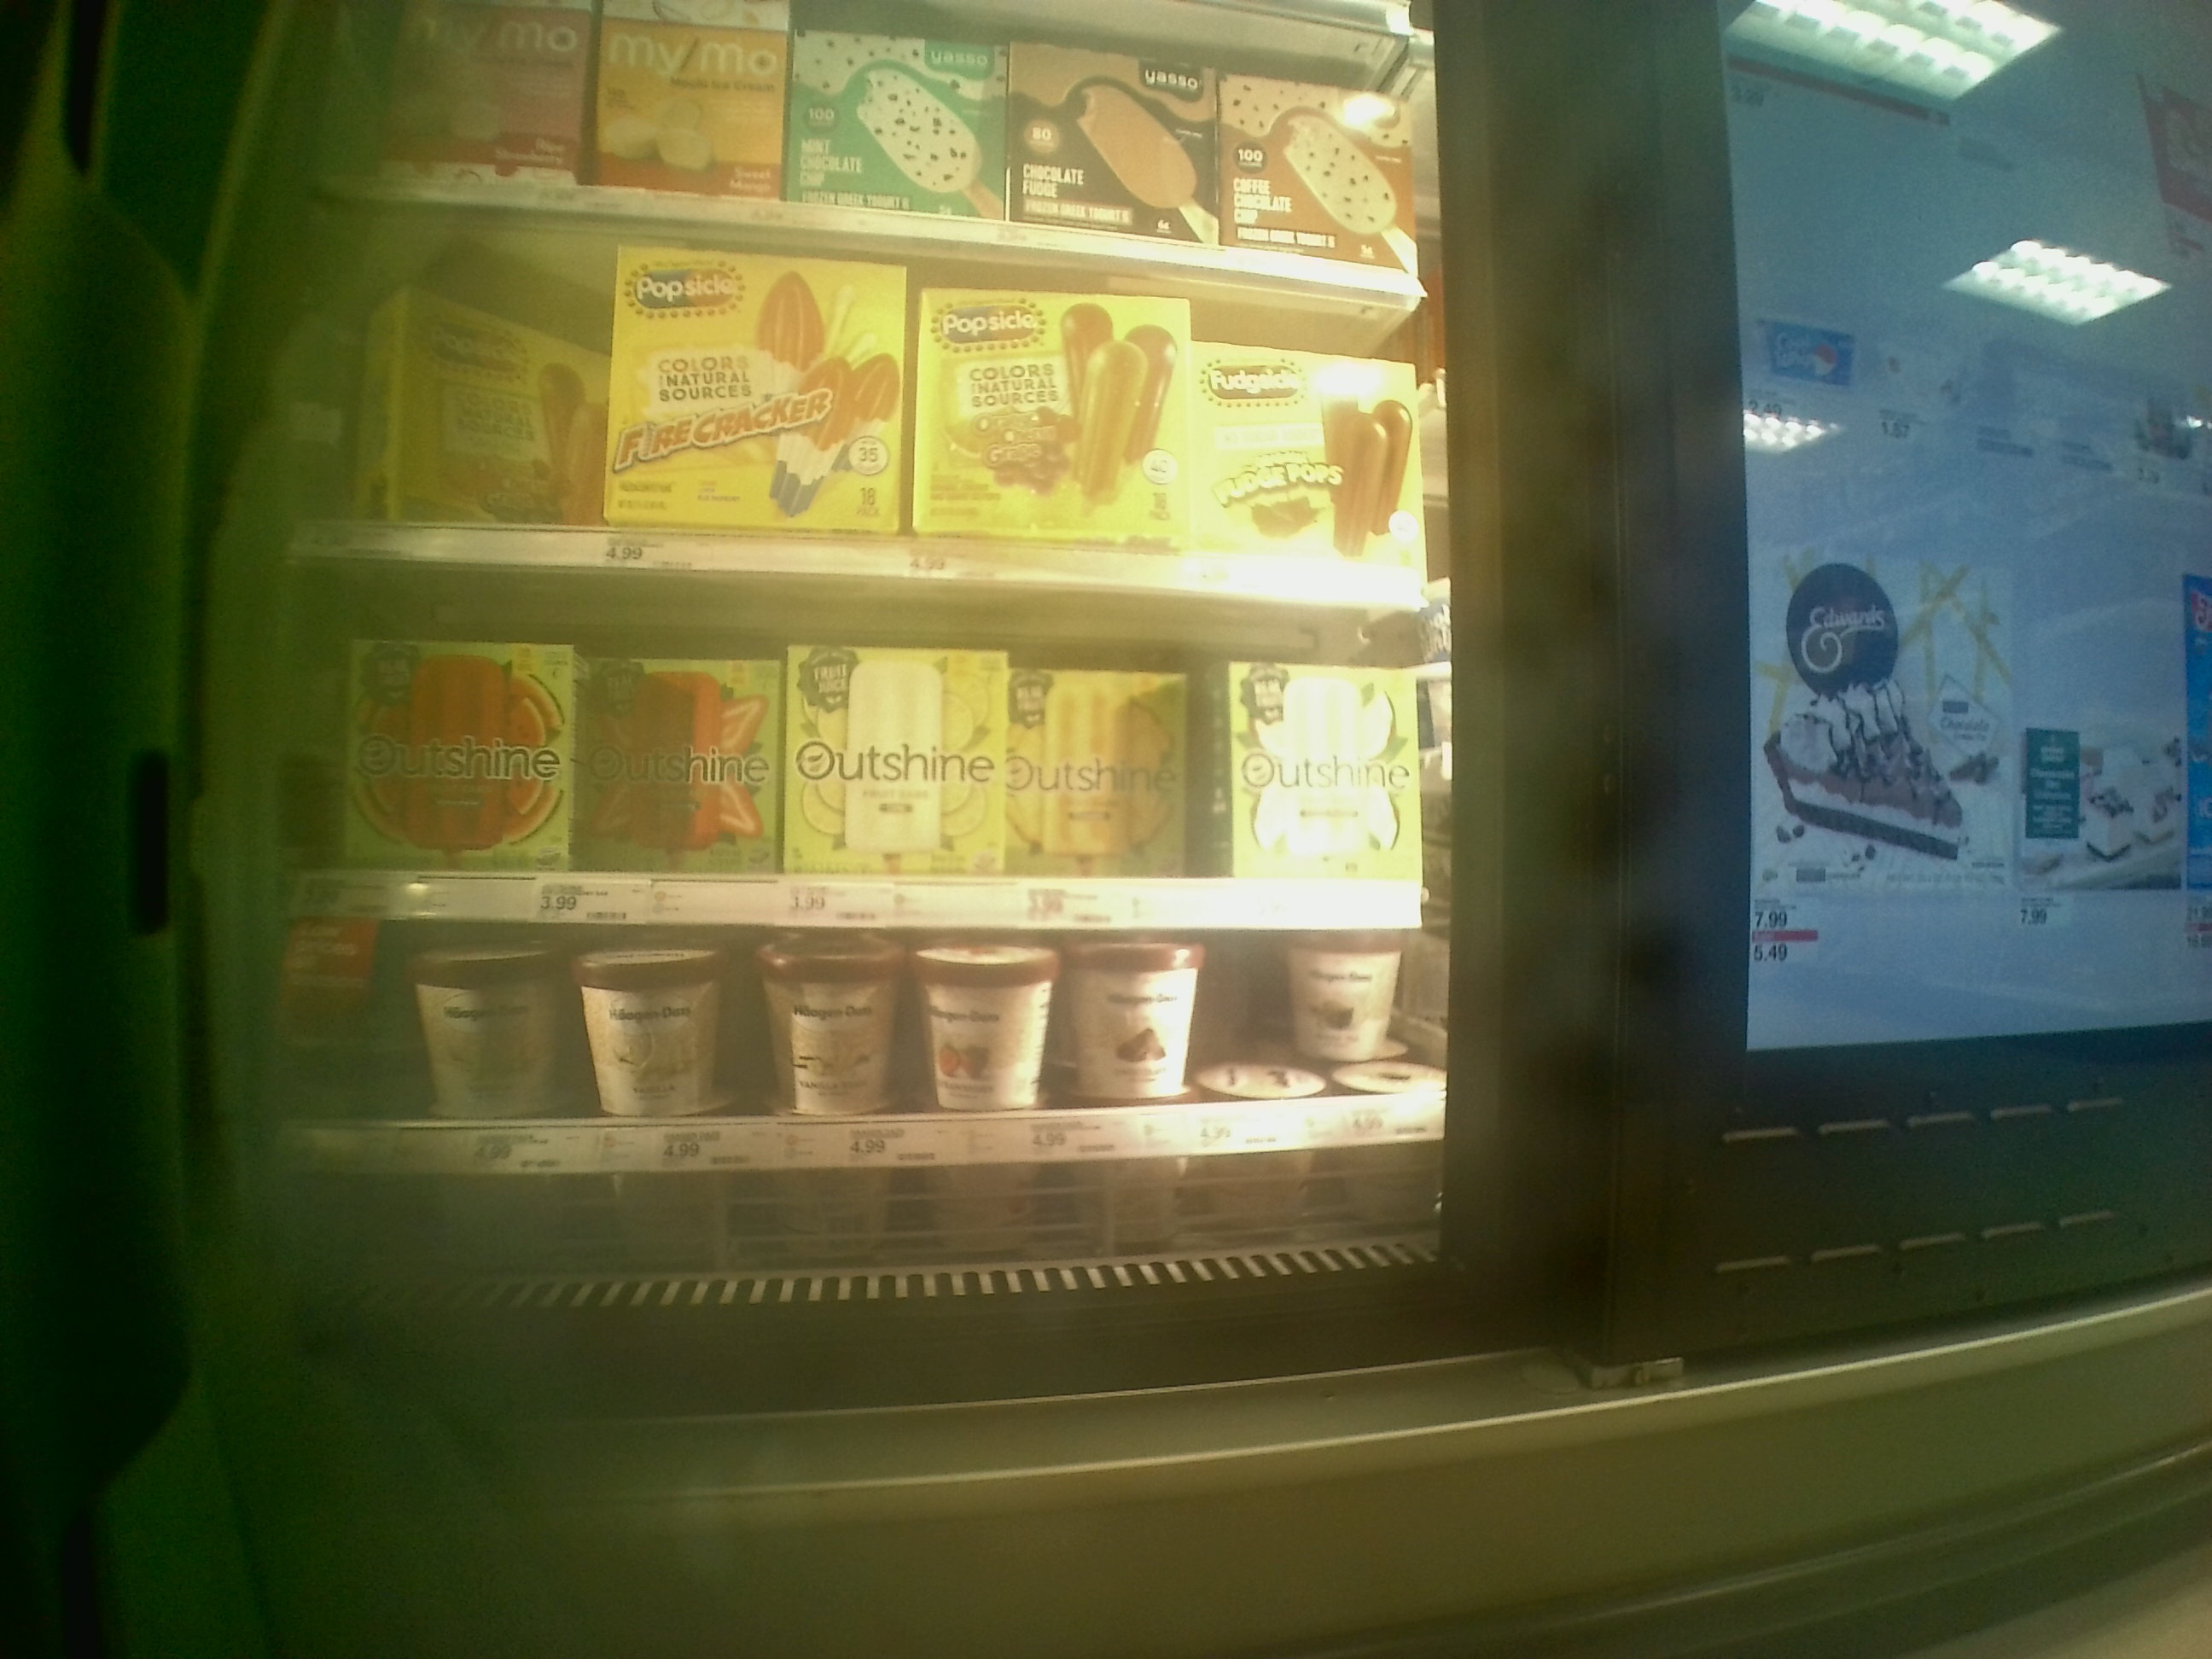ice-cream-shelf: (294, 561, 1440, 929), (308, 929, 1439, 1171)
